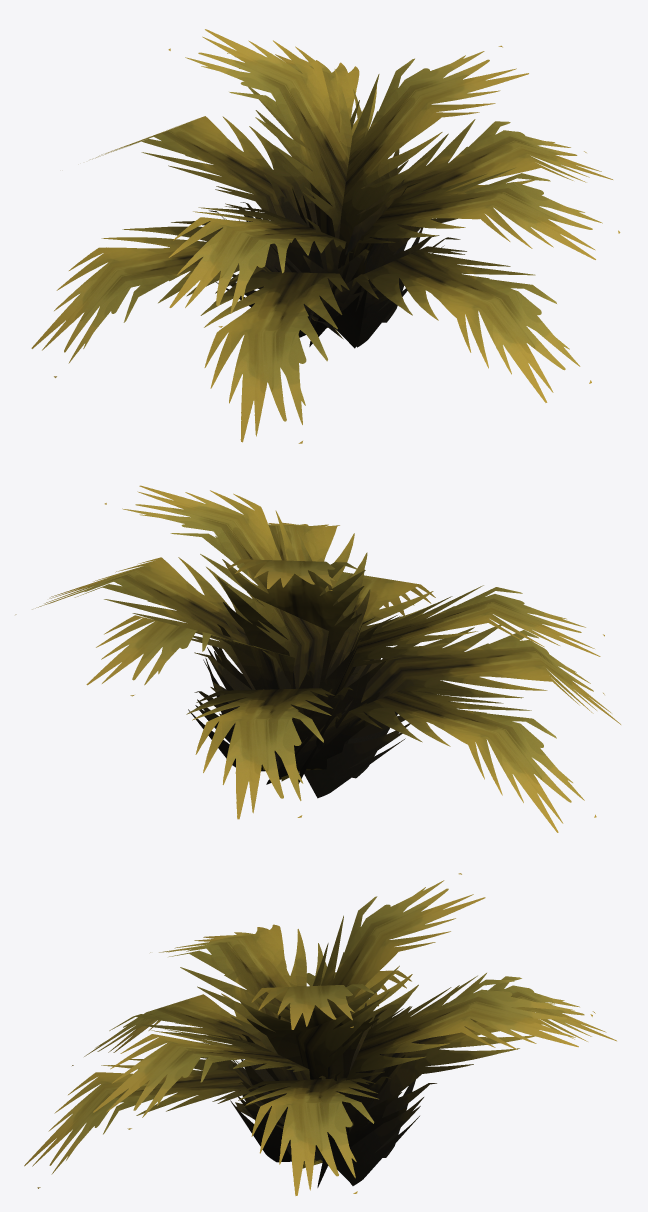
The model's file is Plant.FBX.
3 renders of one model, top to bottom at view 1: azimuth 30°, elevation 25°; view 2: azimuth 150°, elevation 25°; view 3: azimuth 270°, elevation 25°, orthographic. The views are drawn at different scales.
Visible parts, largest first — view 1: Plant; view 2: Plant; view 3: Plant.
Boxes of the visible parts, bbox=[...] form: Plant: bbox=[31, 29, 620, 443]; Plant: bbox=[15, 485, 620, 832]; Plant: bbox=[24, 873, 616, 1195].
Bounding box in the file's own units: 116 × 51.48 × 117.
